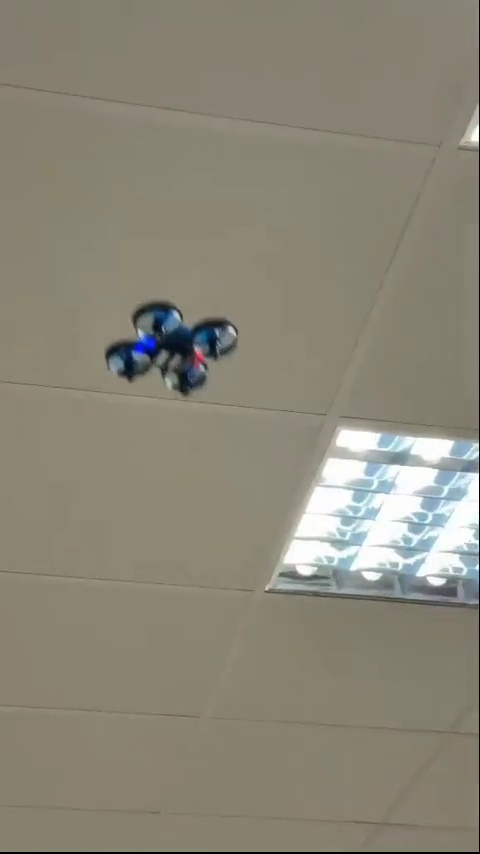drone: (105, 300, 236, 400)
